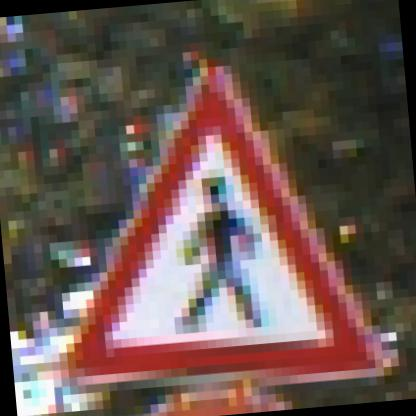crosswalk: (61, 84, 393, 385)
